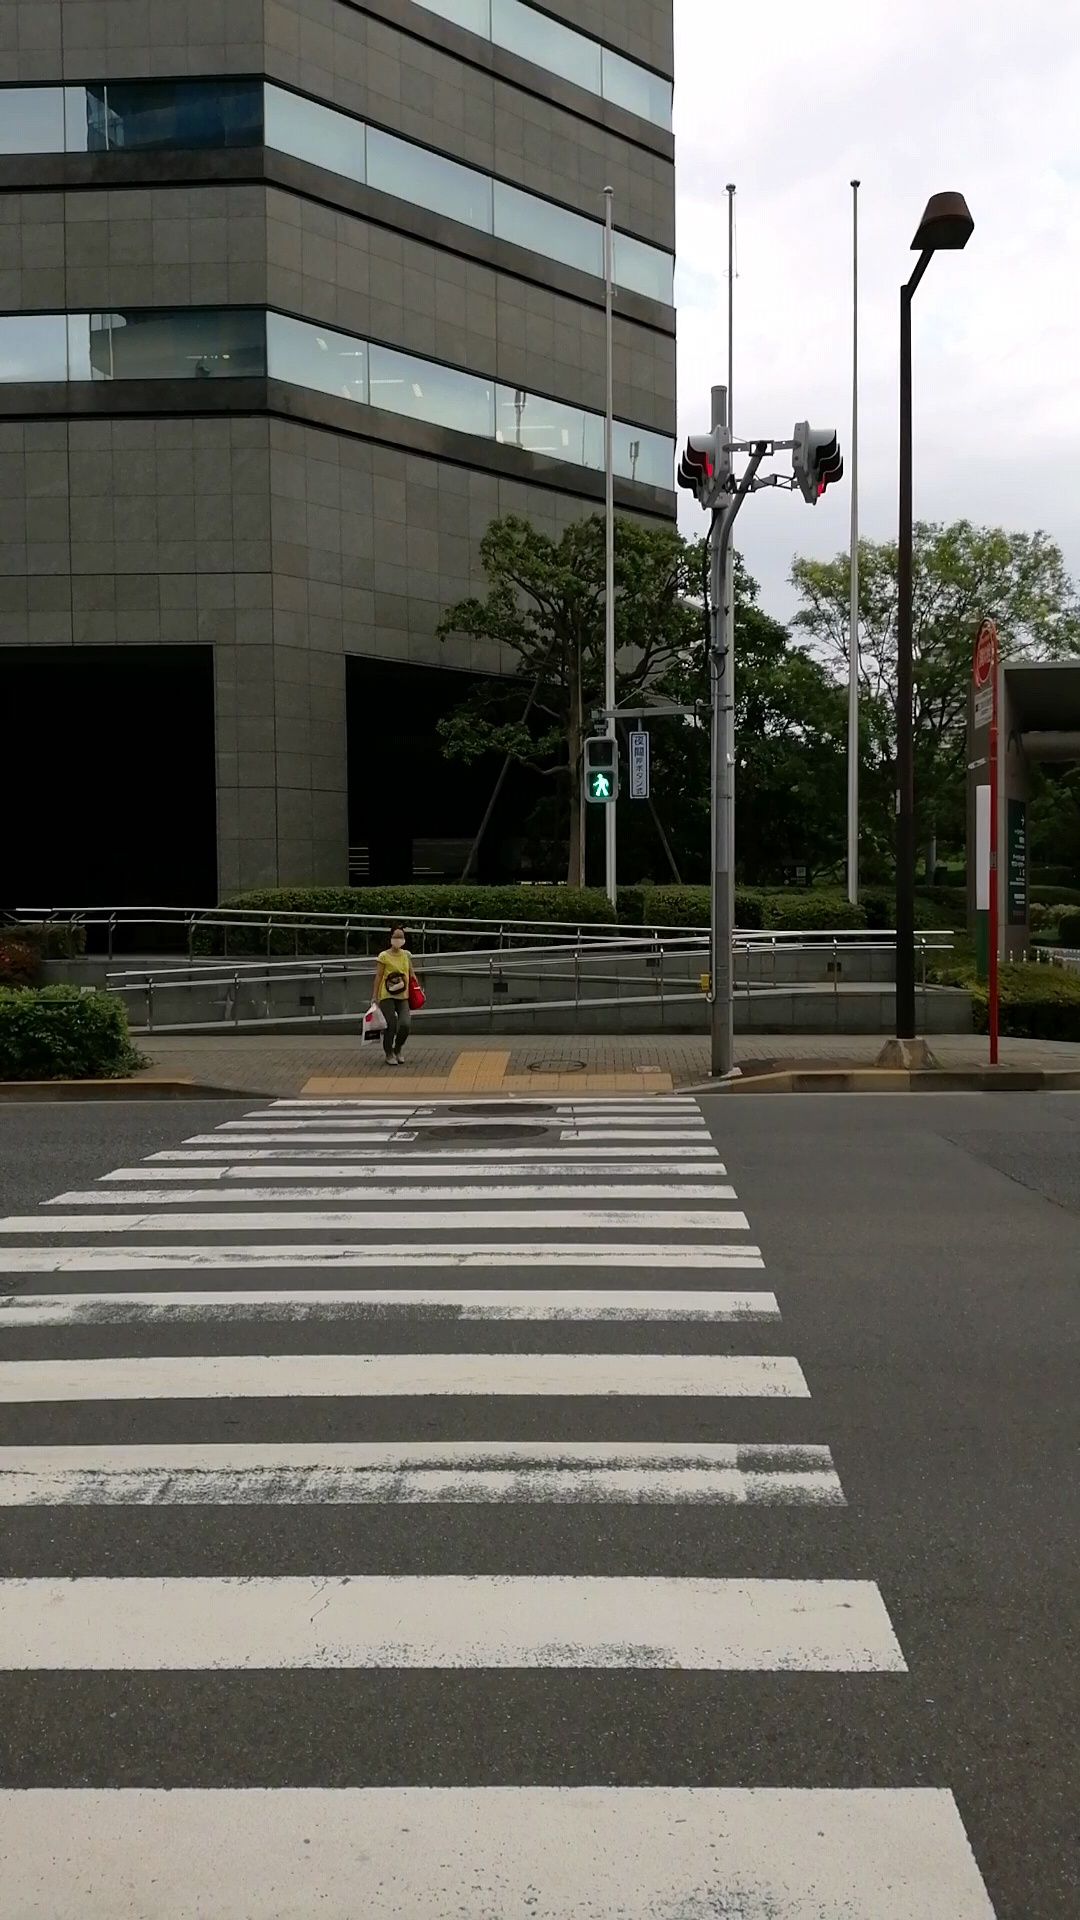green: (582, 737, 618, 803)
